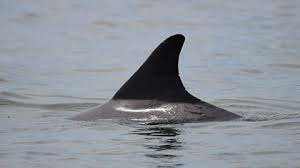fin: (51, 29, 271, 132)
